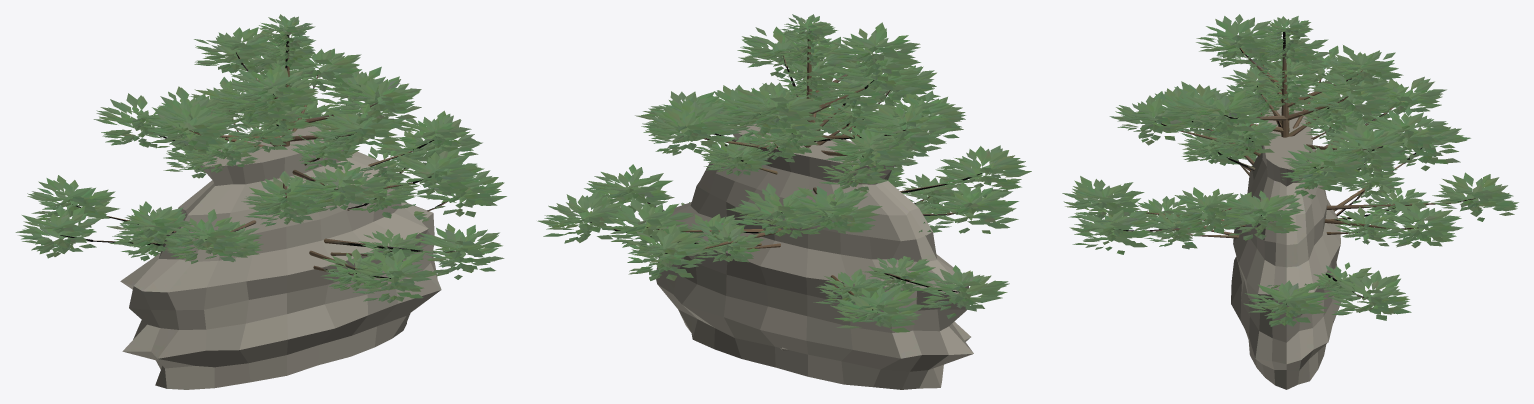
Rendered from landscape-samples.glb.
3 renders of one model, left to right at view 1: azimuth 30°, elevation 25°; view 2: azimuth 150°, elevation 25°; view 3: azimuth 270°, elevation 25°, orthographic. The views are drawn at different scales.
Parts seen in each view (by area): view 1: cliff-0-lod0, tree-1-1-lod0, tree-1-0-lod0, tree-0-1-lod0, tree-0-0-lod0; view 2: cliff-0-lod0, tree-1-1-lod0, tree-1-0-lod0, tree-0-1-lod0, tree-0-0-lod0; view 3: tree-1-1-lod0, tree-1-0-lod0, cliff-0-lod0, tree-0-1-lod0, tree-0-0-lod0.
Boxes of the visible parts, bbox=[...] form: cliff-0-lod0: bbox=[120, 124, 441, 389]; tree-1-1-lod0: bbox=[15, 14, 504, 279]; tree-1-0-lod0: bbox=[27, 36, 506, 303]; tree-0-1-lod0: bbox=[120, 61, 424, 264]; tree-0-0-lod0: bbox=[120, 87, 429, 290]; cliff-0-lod0: bbox=[656, 123, 973, 389]; tree-1-1-lod0: bbox=[537, 14, 1031, 318]; tree-1-0-lod0: bbox=[584, 32, 1018, 332]; tree-0-1-lod0: bbox=[631, 60, 963, 291]; tree-0-0-lod0: bbox=[681, 80, 942, 311]; tree-1-1-lod0: bbox=[1069, 14, 1518, 320]; tree-1-0-lod0: bbox=[1062, 29, 1470, 326]; cliff-0-lod0: bbox=[1231, 106, 1340, 389]; tree-0-1-lod0: bbox=[1144, 58, 1430, 301]; tree-0-0-lod0: bbox=[1136, 75, 1404, 300].
Size of what is drawn, in the model's own units: 20.21 by 14.15 by 18.9.
8 materials, 8 textured.
